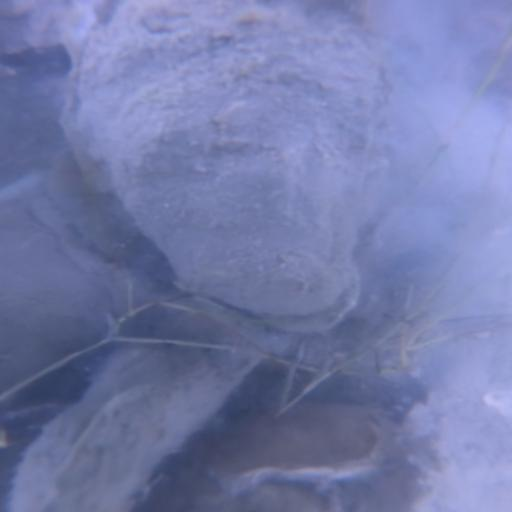Oyster-Closed: (7, 313, 239, 509), (1, 181, 112, 388), (206, 404, 395, 495)
Oyster-Open: (67, 3, 400, 329)
